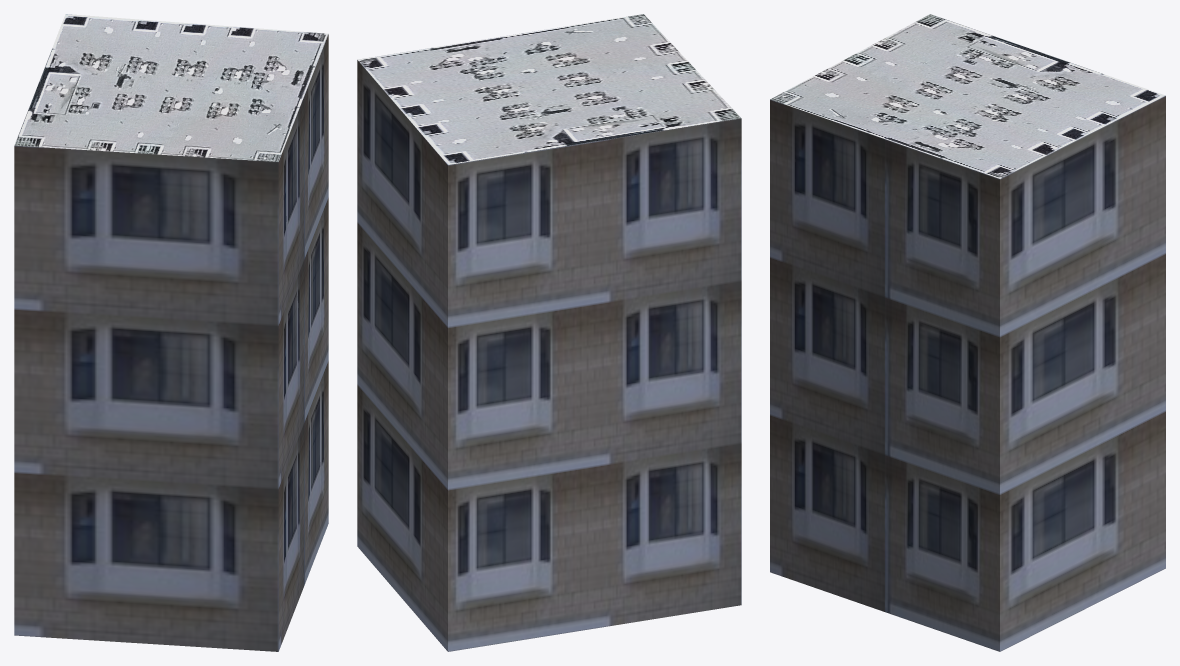
File: ResTex__5055.fbx
3 renders of one model, left to right at view 1: azimuth 30°, elevation 25°; view 2: azimuth 150°, elevation 25°; view 3: azimuth 270°, elevation 25°, orthographic. The views are drawn at different scales.
Parts seen in each view (by area): view 1: CityEngineMaterial_3_m, CityEngineMaterial_4_m; view 2: CityEngineMaterial_3_m, CityEngineMaterial_4_m; view 3: CityEngineMaterial_3_m, CityEngineMaterial_4_m.
Boxes of the visible parts, <box> form: CityEngineMaterial_3_m: <box>14,34,328,651</box>; CityEngineMaterial_4_m: <box>14,14,328,161</box>; CityEngineMaterial_3_m: <box>357,60,741,651</box>; CityEngineMaterial_4_m: <box>358,14,740,164</box>; CityEngineMaterial_3_m: <box>770,96,1165,651</box>; CityEngineMaterial_4_m: <box>770,14,1165,178</box>.
Bounding box in the file's own units: 6.74 × 9 × 6.83.
2 materials, 2 textured.
